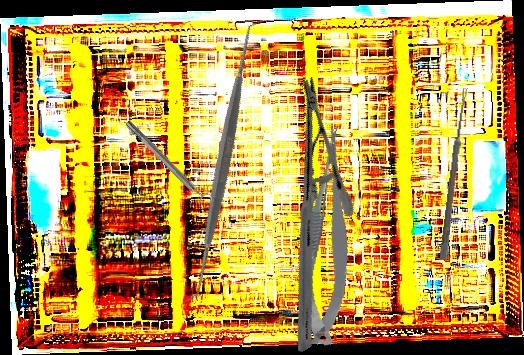Fixation Ring: (121, 114, 216, 213)
Micro Scissor: (286, 124, 372, 348)
Needle Holder: (188, 75, 426, 354)
Spatula Surgical: (81, 19, 365, 304)
Surgical Spoon: (439, 87, 469, 261)
